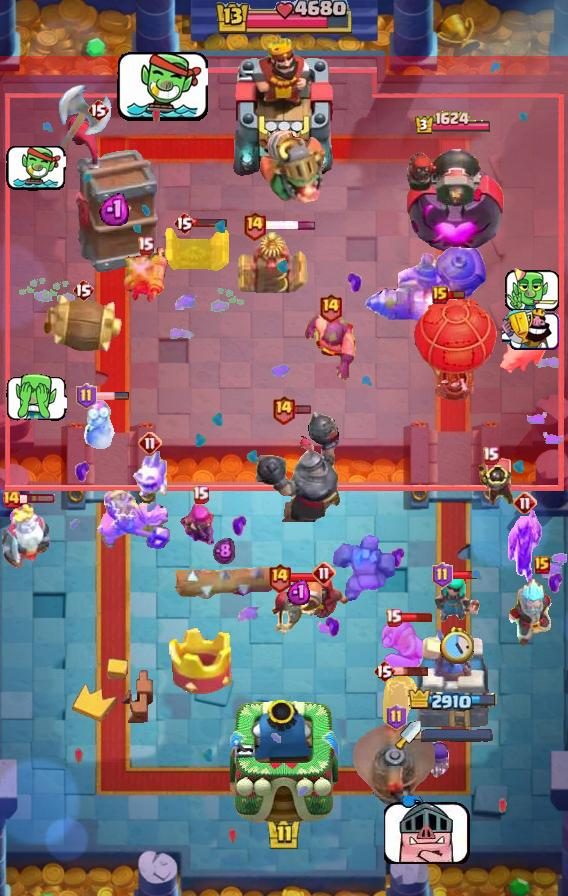archer-evolution: (180, 495, 220, 549)
axe: (56, 82, 114, 154)
bar: (264, 220, 317, 231), (393, 665, 430, 677), (19, 493, 56, 505), (193, 217, 228, 228), (399, 612, 433, 623), (289, 572, 323, 583), (94, 391, 130, 401), (450, 570, 482, 580), (446, 289, 466, 300), (293, 404, 312, 415)
bar-level: (267, 562, 292, 593), (271, 394, 296, 425), (318, 292, 343, 323), (242, 210, 267, 241), (312, 561, 336, 585), (513, 491, 537, 515), (138, 431, 162, 455), (386, 704, 407, 730), (432, 562, 453, 588), (76, 383, 97, 409), (373, 659, 395, 683), (72, 278, 94, 302), (173, 211, 195, 235), (87, 98, 109, 122), (1, 489, 21, 509), (385, 608, 402, 627), (192, 485, 209, 504), (482, 446, 499, 465), (137, 236, 154, 255), (534, 556, 550, 574), (432, 286, 448, 304)
barbarian-barrel: (41, 292, 125, 354)
barbarian-evolution: (506, 510, 544, 585)
bomber: (82, 399, 116, 451)
cannoneer-tower: (401, 138, 505, 256)
clock: (440, 627, 474, 664)
dagger-duchess-tower: (414, 623, 492, 731)
dagger-duchess-tower-bar: (421, 728, 493, 742)
electro-spirit: (377, 673, 417, 723)
elite-barbarian: (380, 619, 434, 675)
elixir: (99, 191, 129, 226), (287, 578, 310, 605), (213, 537, 235, 565)
emote: (114, 49, 208, 126), (384, 796, 473, 864), (6, 372, 67, 421), (6, 143, 66, 191), (503, 264, 560, 314), (502, 307, 561, 352)
executioner: (303, 312, 357, 382)
firecracker: (122, 245, 168, 307)
golemite: (333, 529, 395, 605)
hog: (497, 326, 549, 376)
ice-spirit-evolution: (130, 448, 170, 500)
ice-wizard: (502, 577, 568, 649)
king-tower: (228, 35, 340, 181), (230, 698, 338, 826)
king-tower-bar: (213, 0, 355, 38)
little-prince: (464, 457, 516, 507)
rascal-girl: (433, 573, 481, 623)
royal-ghost: (0, 503, 52, 571)
skeleton-evolution: (423, 741, 453, 779)
tesla: (238, 228, 308, 296), (161, 226, 233, 274)
the-log: (173, 562, 276, 600)
tower-bar: (408, 687, 499, 714), (414, 111, 492, 136)
wall-breaker: (271, 573, 325, 637)
wizard: (298, 574, 350, 628)
